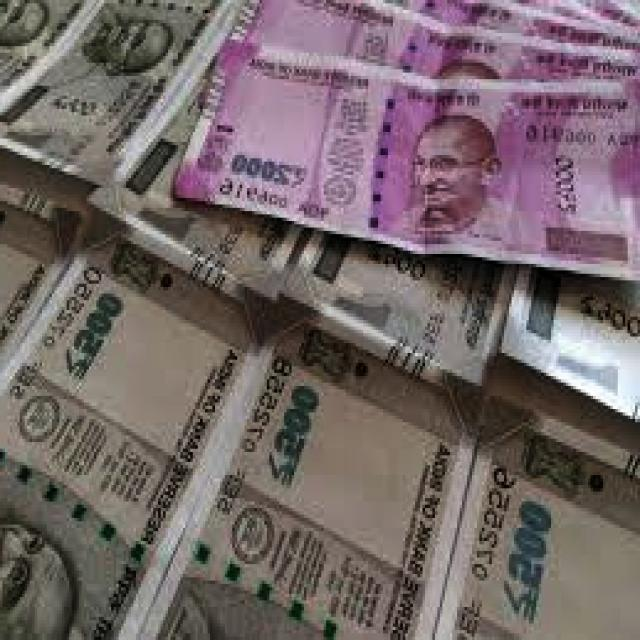500rs: (212, 265, 458, 640), (0, 250, 208, 640), (0, 0, 213, 330), (460, 277, 640, 640)
